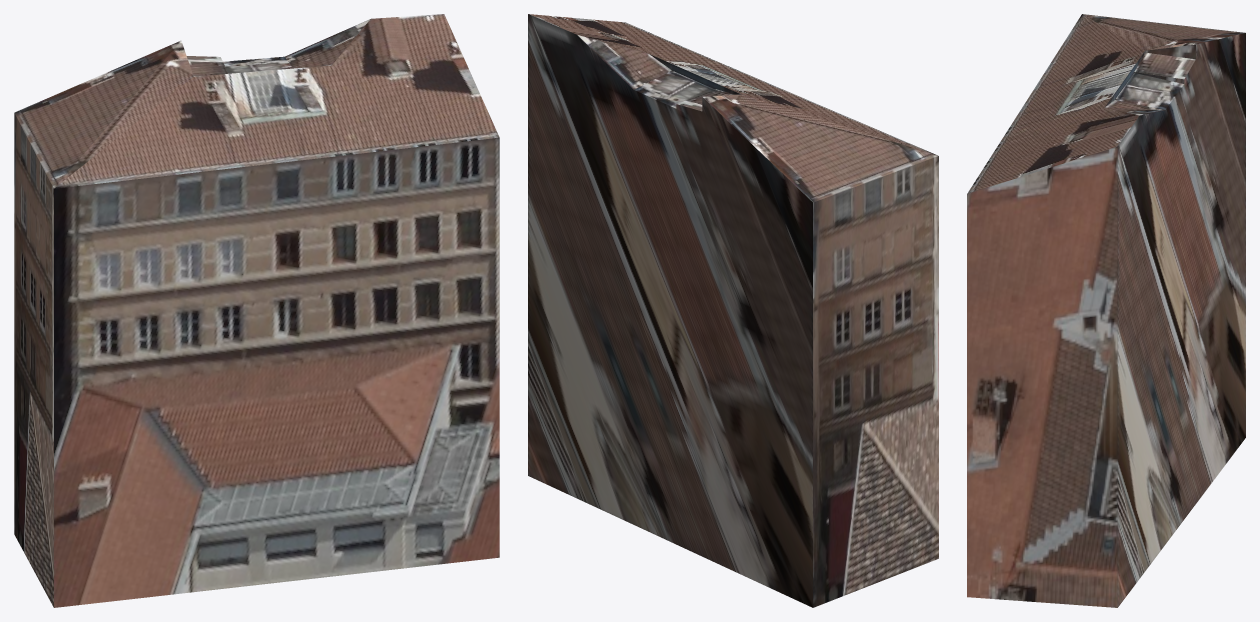
3 renders of one model, left to right at view 1: azimuth 30°, elevation 25°; view 2: azimuth 150°, elevation 25°; view 3: azimuth 270°, elevation 25°, orthographic. The views are drawn at different scales.
Visible parts, largest first — view 1: Z_UP; view 2: Z_UP; view 3: Z_UP.
Part boxes in pixels (x1,y1,x2,y2): Z_UP: [14, 14, 499, 607]; Z_UP: [528, 14, 938, 607]; Z_UP: [967, 14, 1245, 607].
Bounding box in the file's own units: 22.62 × 25.51 × 13.91.
2 materials, 1 textured.
